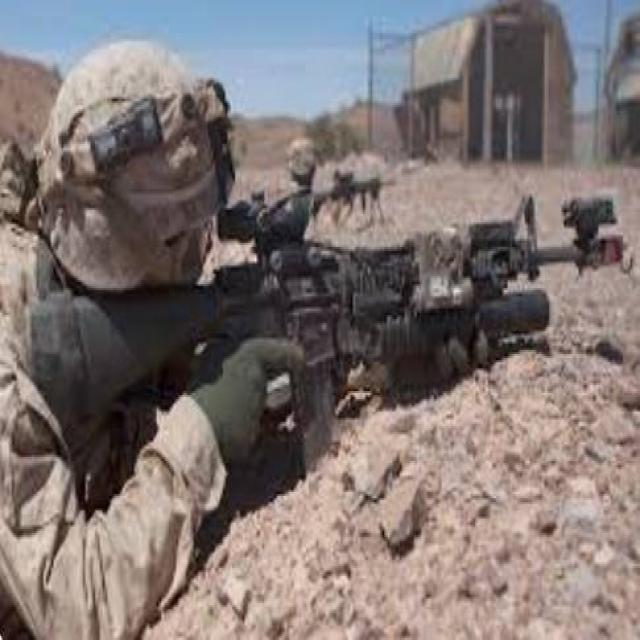m16: (0, 203, 640, 442)
